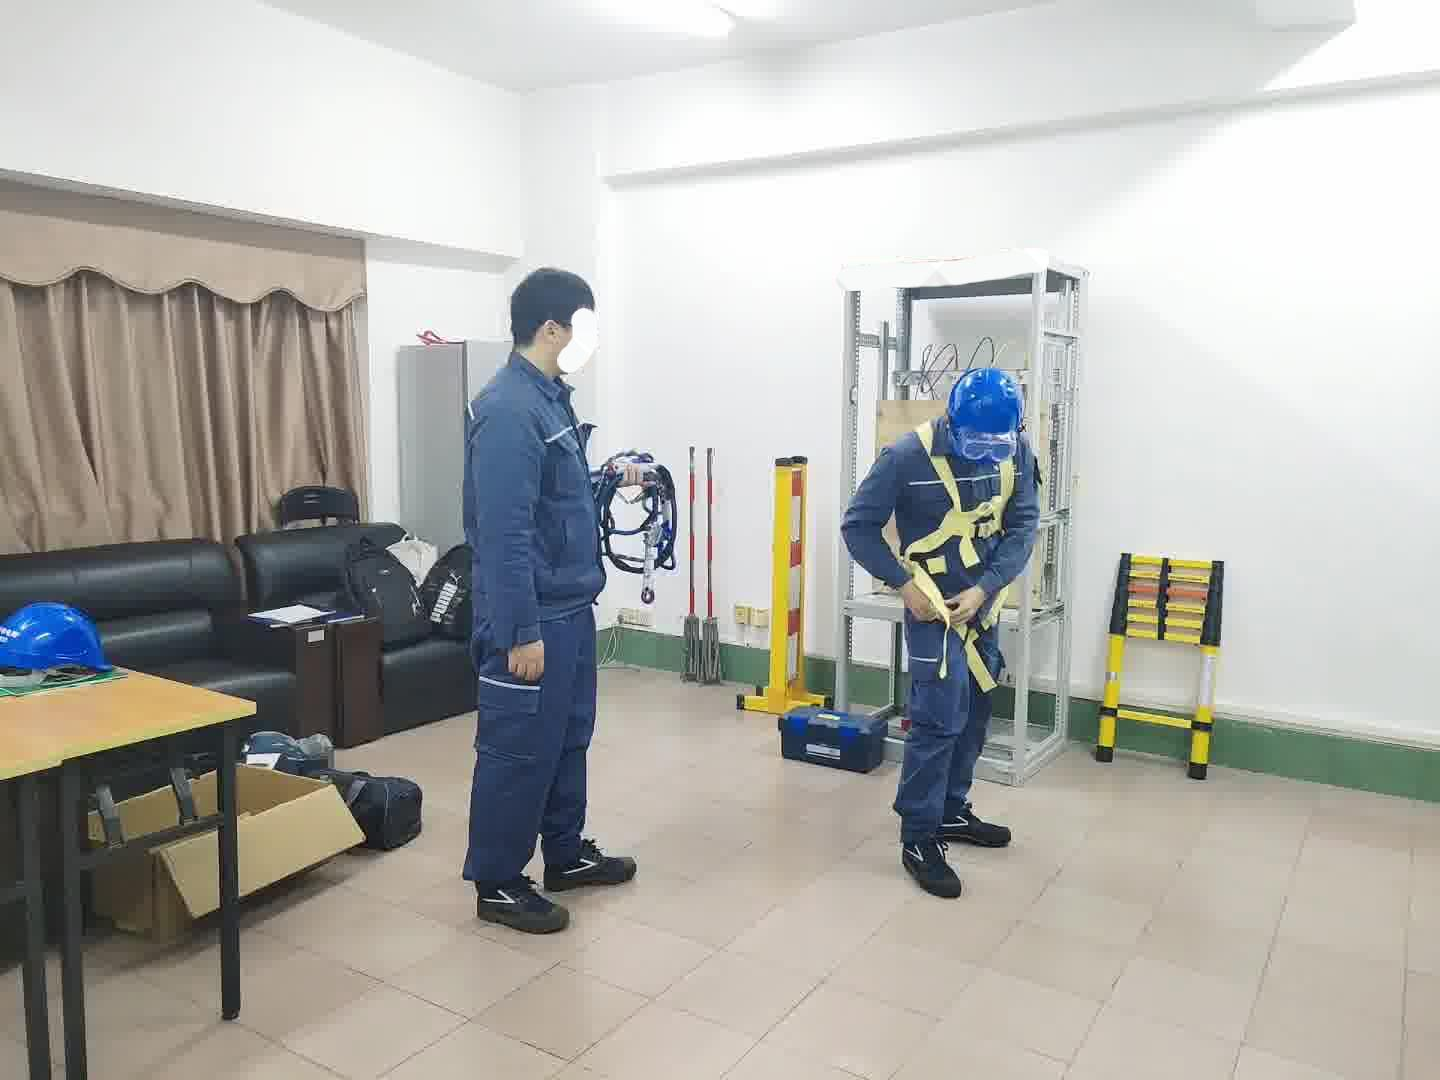halt: (947, 369, 1030, 461)
noear: (534, 317, 571, 358)
unhalt: (507, 272, 603, 376)
